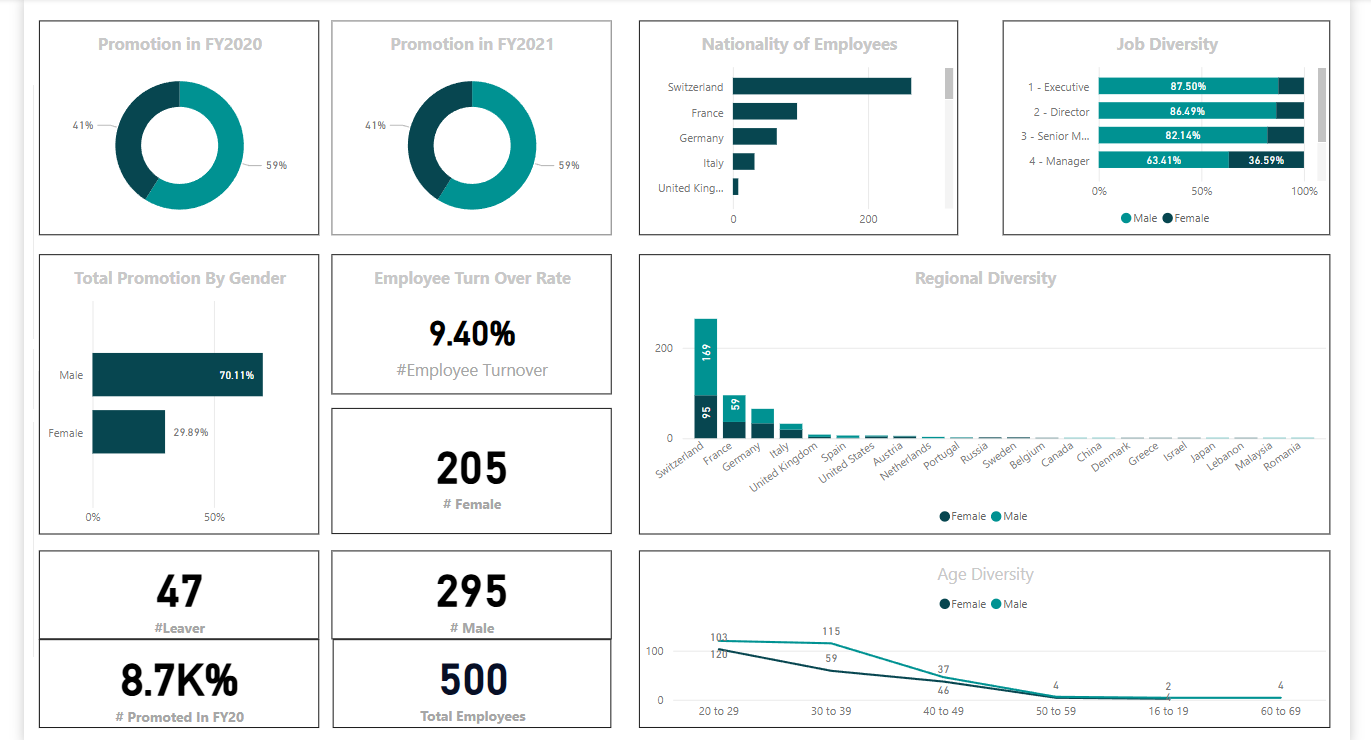

Layout of this report page (visuals, bound fields, positions):
{"tool":"powerbi","page":{"name":"Dashboard 3","canvas":[1280,720],"ordinal":2},"visuals":[{"type":"donutChart","title":"Promotion in FY2020","fields":{"Category":["Pharma.Gender"],"Y":["CountNonNull(Pharma.Promotion in FY20?)"]},"box":[14.5,21.7,270.2,207.5],"z":0},{"type":"card","fields":{"Values":["CountNonNull(Pharma.Employee ID)"]},"box":[298,618.9,269,85.7],"z":6,"group":"g1"},{"type":"donutChart","title":"Promotion in FY2021","fields":{"Category":["Pharma.Gender"],"Y":["CountNonNull(Pharma.Nationality 1)"]},"box":[296.8,21.7,270.2,207.5],"z":1000},{"type":"barChart","title":"Total Promotion By Gender","fields":{"Category":["Pharma.Gender"],"Y":["Pharma.# Promoted In FY20"]},"box":[14.5,247.3,270.2,270.2],"z":2000},{"type":"card","title":"Employee Turn Over Rate","fields":{"Values":["Pharma.#Employee Turnover"]},"box":[296.8,247.3,270.2,135.1],"z":3000},{"type":"barChart","title":"Nationality of Employees","fields":{"Y":["CountNonNull(Pharma.Employee ID)"],"Category":["Pharma.Nationality 1"]},"box":[593.6,21.7,307.6,207.5],"z":4000},{"type":"columnChart","title":"Regional Diversity","fields":{"Category":["Pharma.Nationality 1"],"Y":["CountNonNull(Pharma.Gender)"],"Series":["Pharma.Gender"]},"box":[593.6,247.3,667.2,270.2],"z":5000},{"type":"hundredPercentStackedBarChart","title":"Job Diversity","fields":{"Category":["Pharma.Job Level after FY20 promotions"],"Series":["Pharma.Gender"],"Y":["Divide(CountNonNull(Pharma.Gender), ScopedEval(CountNonNull(Pharma.Gender), []))"]},"box":[944.6,21.7,316.1,207.5],"z":6000},{"type":"lineChart","title":"Age Diversity","fields":{"Series":["Pharma.Gender"],"Category":["Pharma.Age group"],"Y":["CountNonNull(Pharma.Employee ID)"]},"box":[593.6,533.2,667.2,171.3],"z":7000},{"type":"card","fields":{"Values":["Pharma.# Female"]},"box":[296.8,395.7,270.2,121.9],"z":8000},{"type":"card","fields":{"Values":["Pharma.#Leaver"]},"box":[14.5,533.2,270.2,85.7],"z":9000},{"type":"card","fields":{"Values":["Pharma.# male"]},"box":[296.8,533.2,270.2,85.7],"z":10000},{"type":"card","fields":{"Values":["Pharma.# Promoted FY20"]},"box":[14.5,618.9,270.2,85.7],"z":11000},{"type":"group","id":"g1","title":"Group 1","box":[298,618.9,269,85.7],"z":12000}]}

Visuals, with their boxes in screenshot pixels (x1, y1, x2, y2):
"Promotion in FY2020" donutChart: rect(29, 12, 313, 230)
card - CountNonNull(Pharma.Employee ID): rect(327, 639, 609, 729)
"Promotion in FY2021" donutChart: rect(326, 12, 609, 230)
"Total Promotion By Gender" barChart: rect(29, 249, 313, 532)
"Employee Turn Over Rate" card: rect(326, 249, 609, 391)
"Nationality of Employees" barChart: rect(637, 12, 960, 230)
"Regional Diversity" columnChart: rect(637, 249, 1337, 532)
"Job Diversity" hundredPercentStackedBarChart: rect(1006, 12, 1337, 230)
"Age Diversity" lineChart: rect(637, 549, 1337, 729)
card - Pharma.# Female: rect(326, 405, 609, 533)
card - Pharma.#Leaver: rect(29, 549, 313, 639)
card - Pharma.# male: rect(326, 549, 609, 639)
card - Pharma.# Promoted FY20: rect(29, 639, 313, 729)
"Group 1" group: rect(327, 639, 609, 729)
